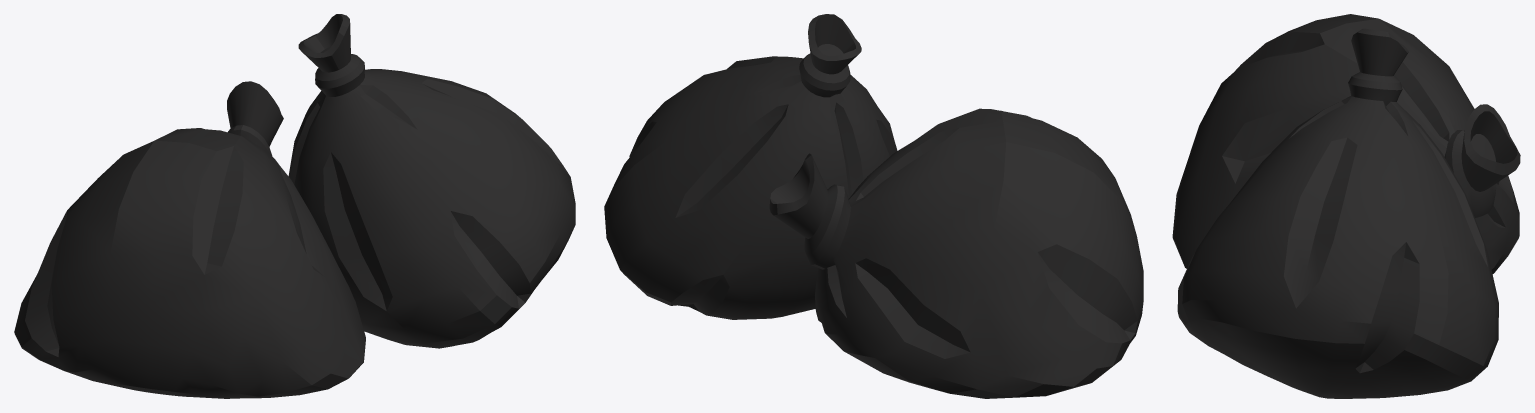
Rendered from prop_trash_bags.glb.
The picture shows the model from 3 angles, left to right: view 1: azimuth 30°, elevation 25°; view 2: azimuth 150°, elevation 25°; view 3: azimuth 270°, elevation 25°; orthographic projection. The views are drawn at different scales.
Parts seen in each view (by area): view 1: TrashBag_2; view 2: TrashBag_2; view 3: TrashBag_2.
Part boxes in pixels (x1,y1,x2,y2): TrashBag_2: (14, 14, 575, 398); TrashBag_2: (604, 14, 1143, 398); TrashBag_2: (1172, 14, 1520, 398).
Size of the model in its own units: 0.9061 by 0.53 by 0.5243.
Materials: 1 (1 with a texture image).
